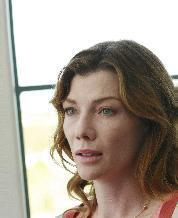face: (63, 100, 119, 163)
